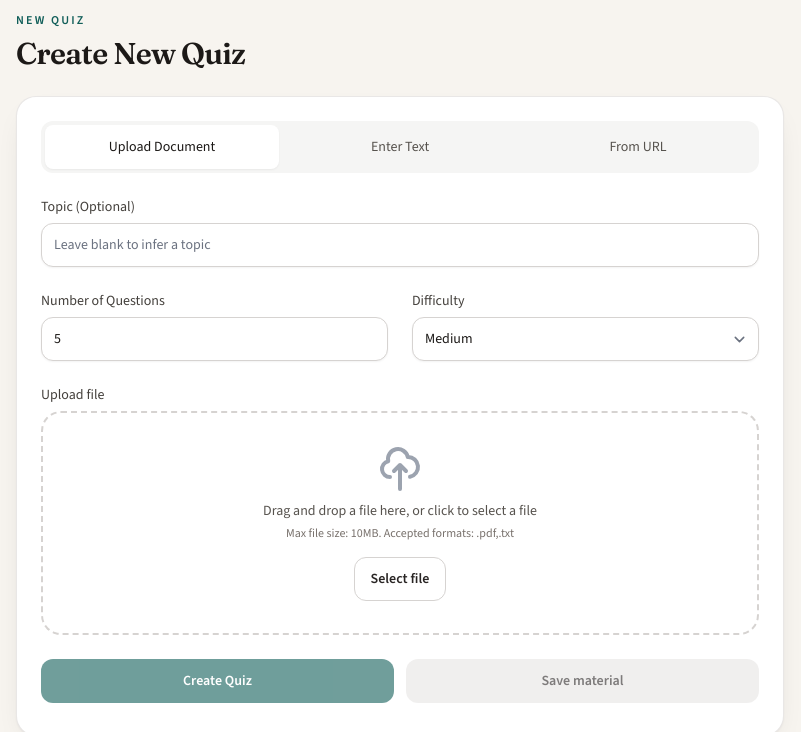
Test: CreateQuiz › shows validation error when submitting without a URL
Click the text "From URL" at (638, 146), box x1=609 y1=137 x2=667 y2=156
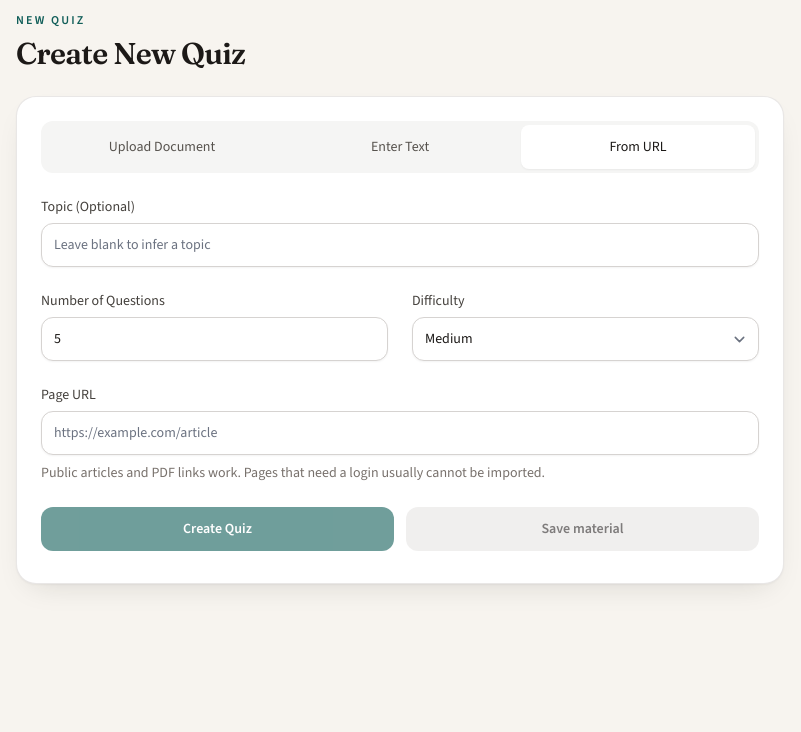
Submit the form, box x1=41 y1=197 x2=759 y2=551
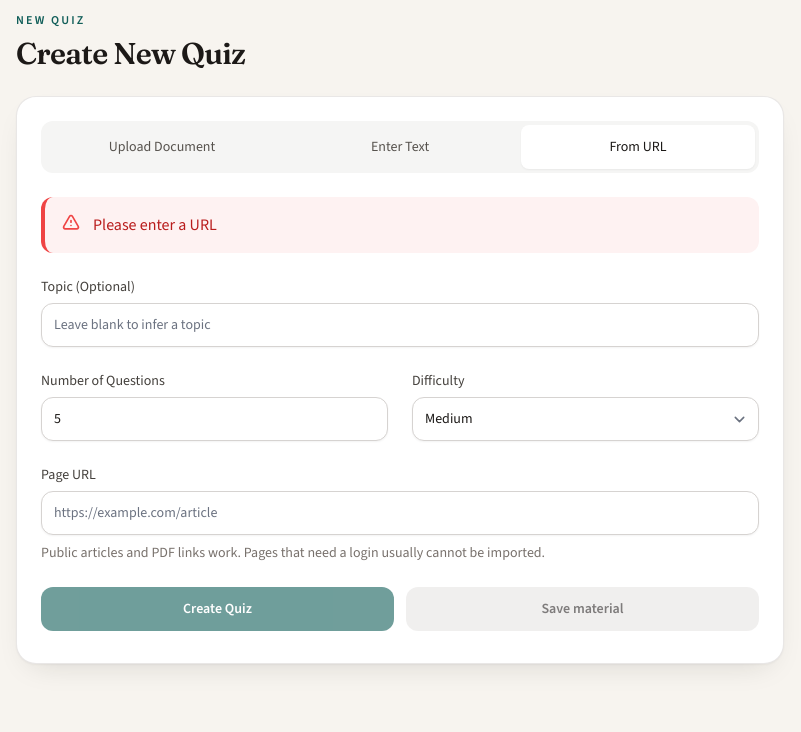
Expected: the text "Please enter a URL" is shown, x1=93 y1=213 x2=217 y2=237
